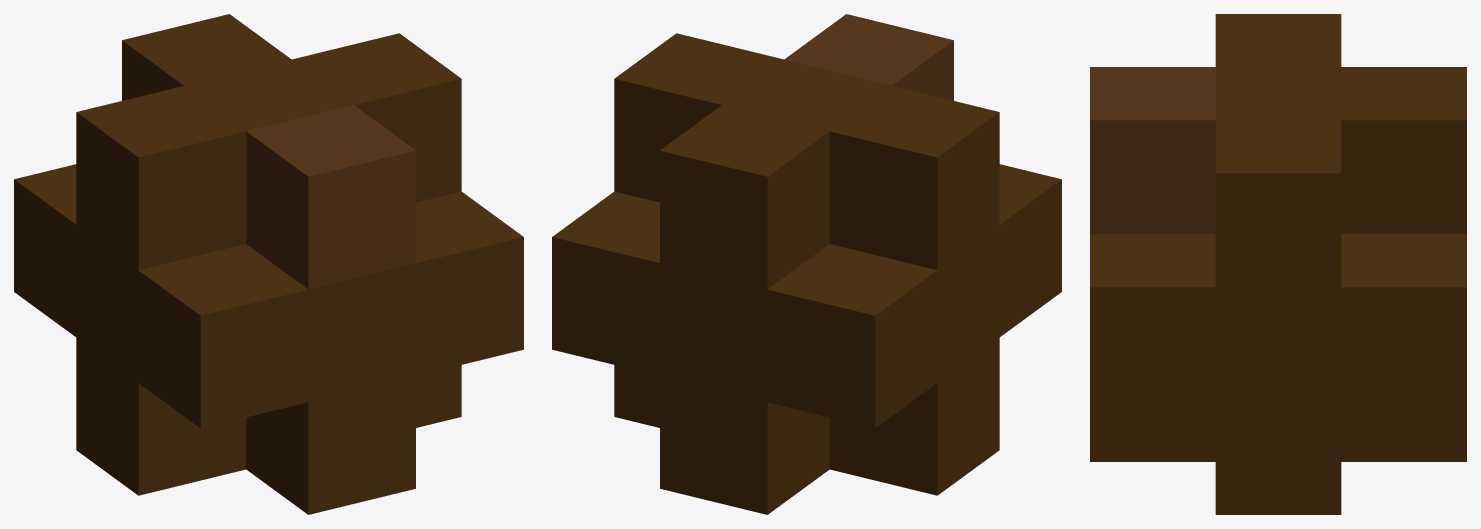
The model's file is Coconut.obj.
The picture shows the model from 3 angles, left to right: view 1: azimuth 30°, elevation 25°; view 2: azimuth 150°, elevation 25°; view 3: azimuth 270°, elevation 25°; orthographic projection.
Size of the model in its own units: 0.3 by 0.3 by 0.3.
1 material, 1 textured.
